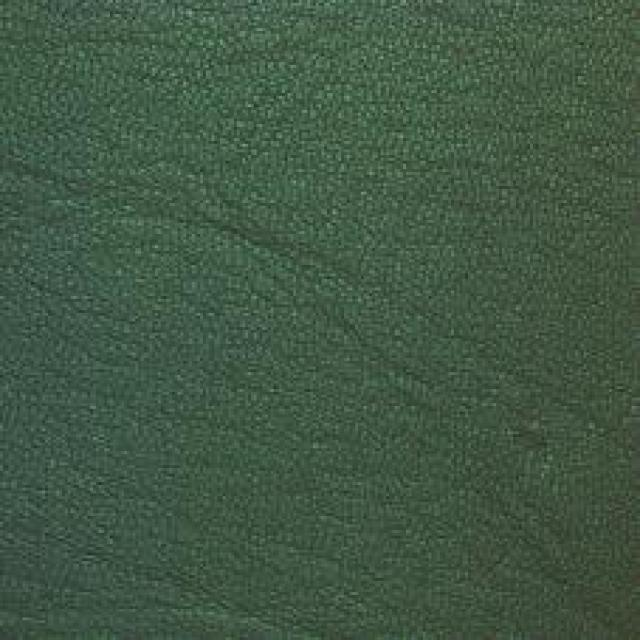Growth Marks: (158, 154, 372, 325)
